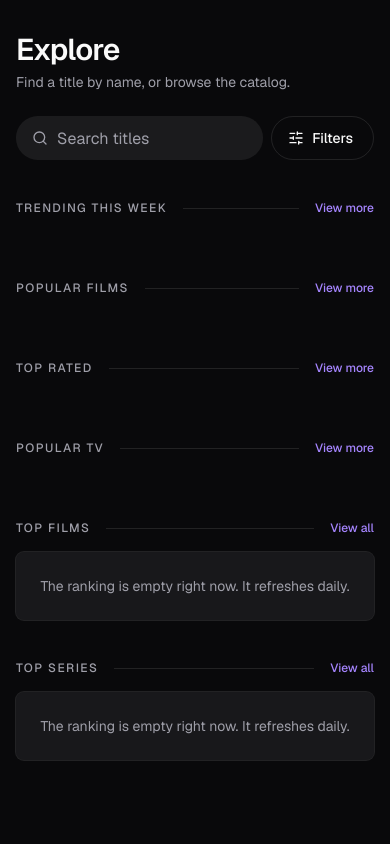
Test: ExploreClient filters › lists the years newest first, between Any year and Before 1990
This screenshot has width=390, height=844.
Click the button "Filters" at (323, 138), box [271,116,374,160]
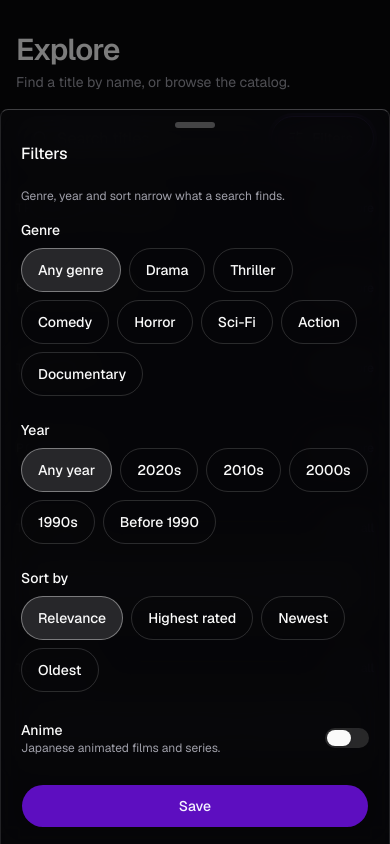
Check: the buttons read "Any year", "2020s", "2010s", "2000s", "1990s", "Before 1990", in this order, box [21,448,112,492]; [120,448,198,492]; [206,448,281,492]; [289,448,368,492]; [21,500,95,544]; [103,500,216,544]
